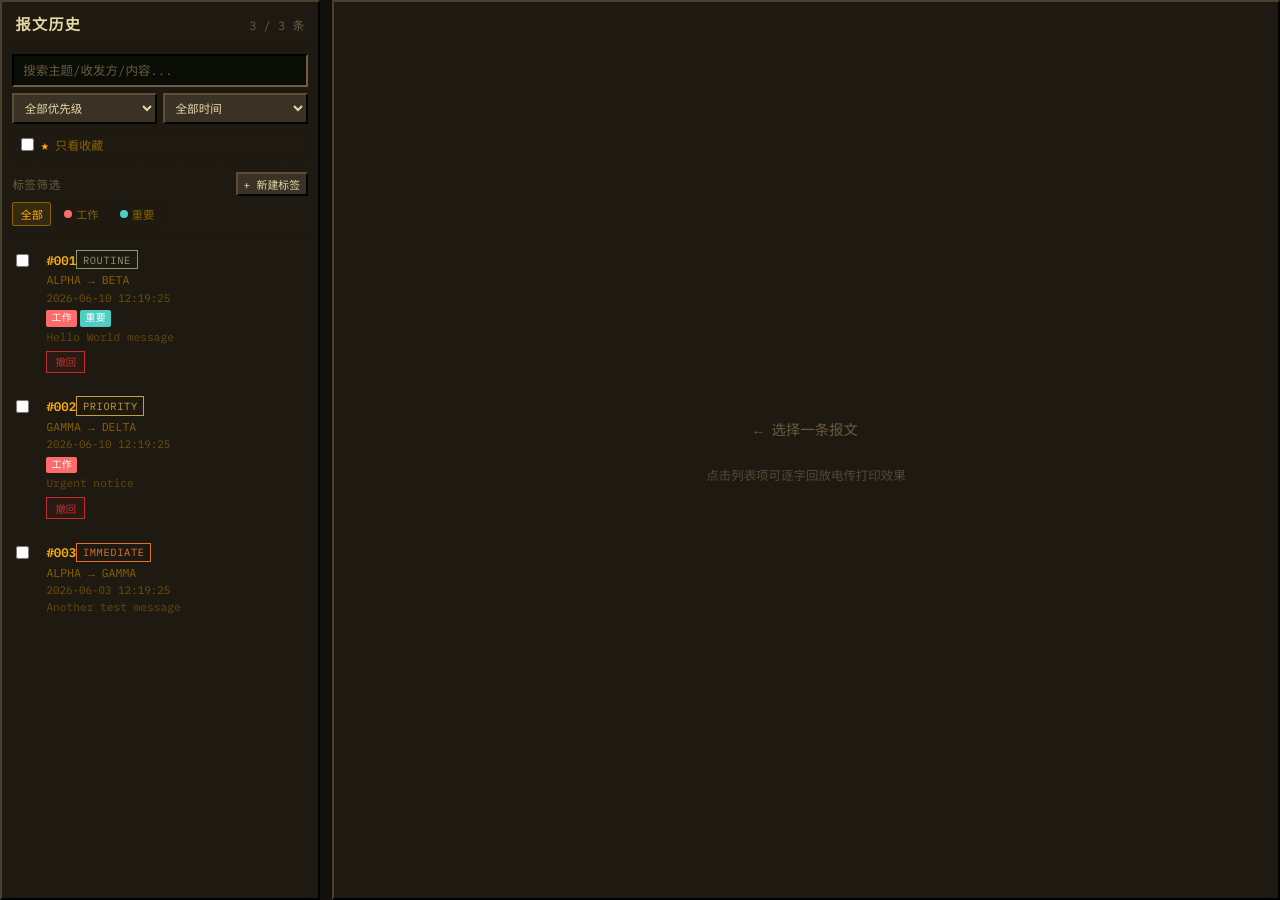
Scenario: HistoryPage › 搜索筛选功能 › 应该通过关键词搜索报文
This screenshot has width=1280, height=900.
In the field with placeholder "搜索主题/收发方/内容...": (160, 70) [12,54,308,87], type "Urgent"
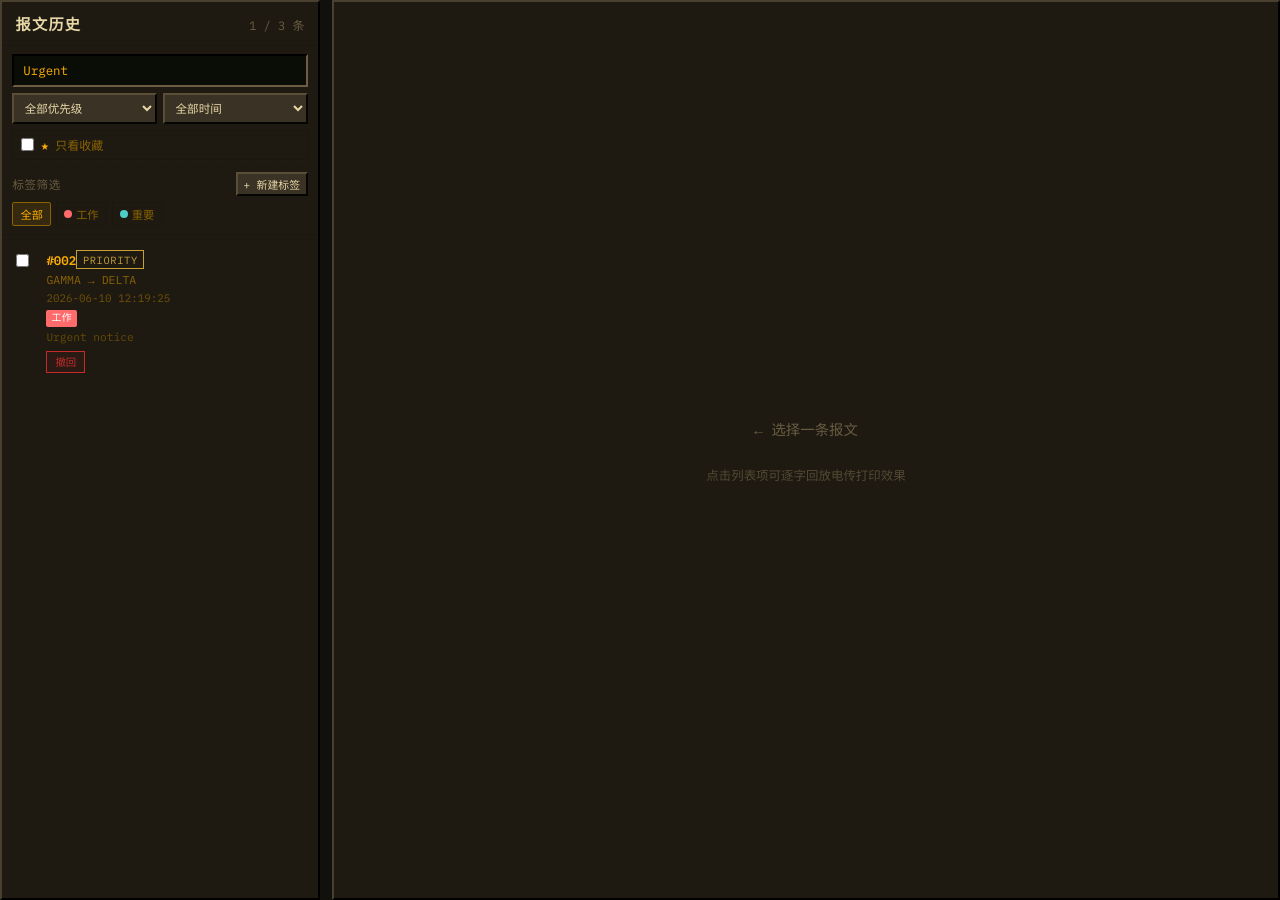
Result: the text "1 / 3 条" is shown at [249,16,304,33]
